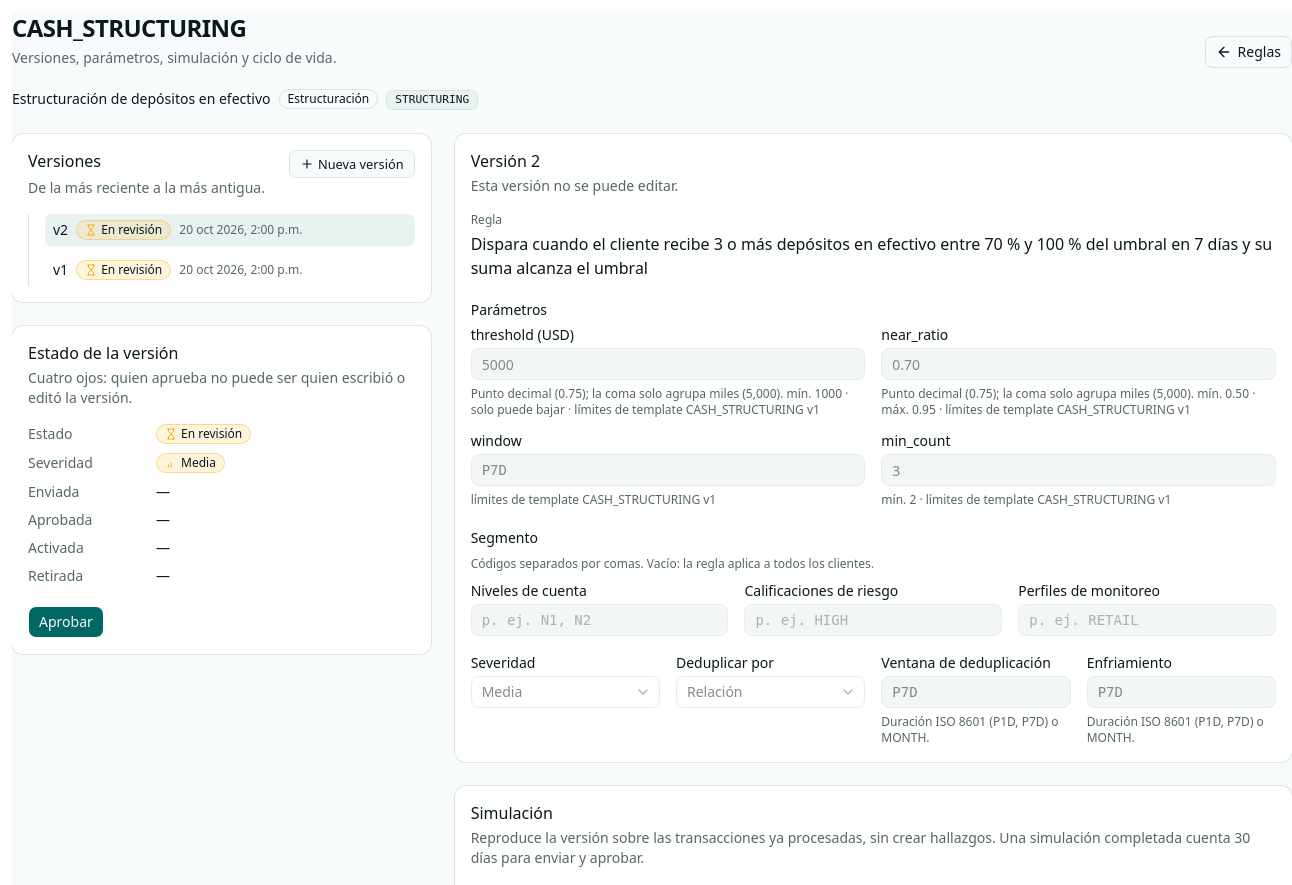
Test: RulePage › another version's refusal does not follow the user to this one
Click the button "Aprobar".
click(66, 622)  # box [28,606,104,638]
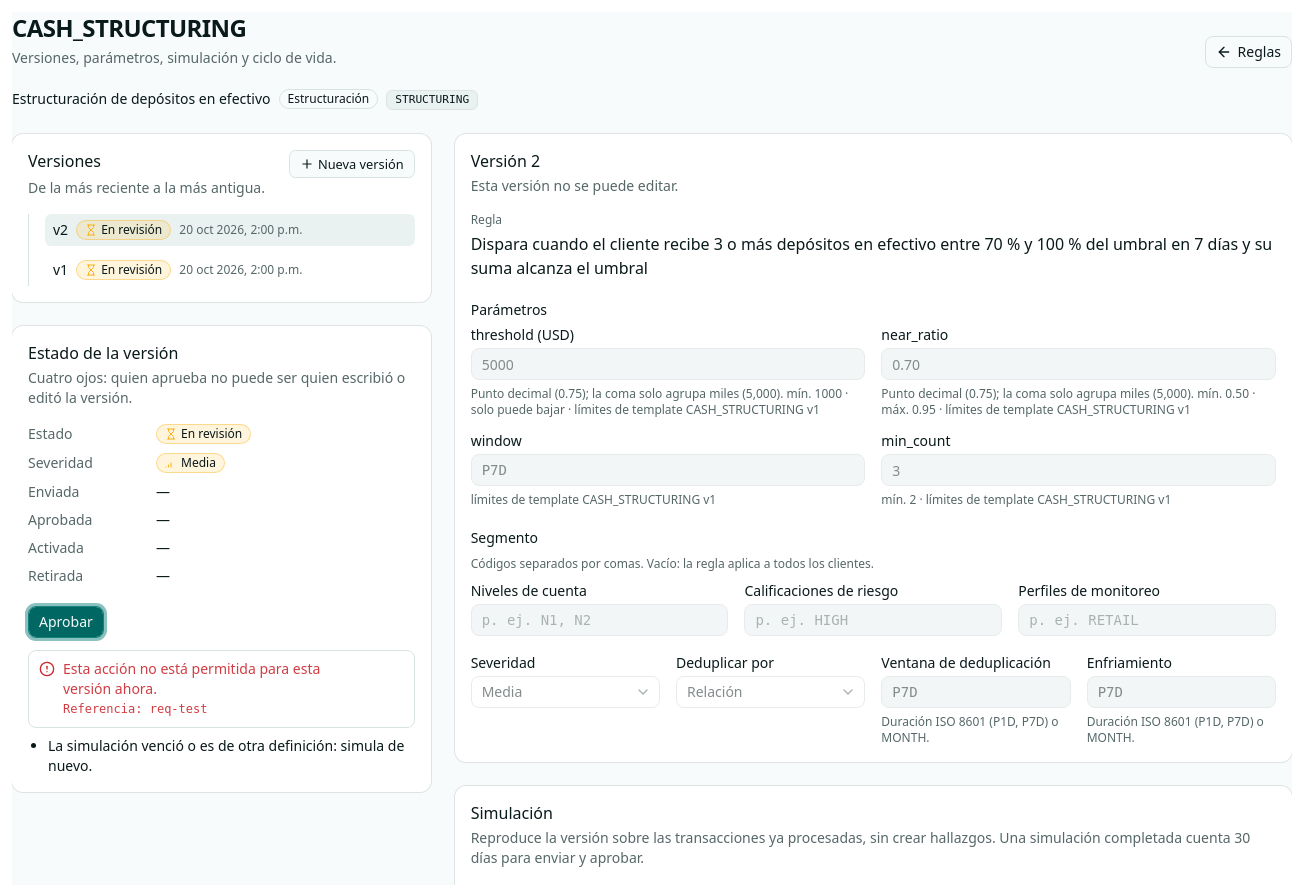
Now the list item "La simulación venció o es de otra definición: simula de nuevo." is shown, box [48,736,415,776]
Click the button "v1 En revisión 20 oct 2026, 2:00 p.m.".
click(230, 270)  # box [45,254,415,286]
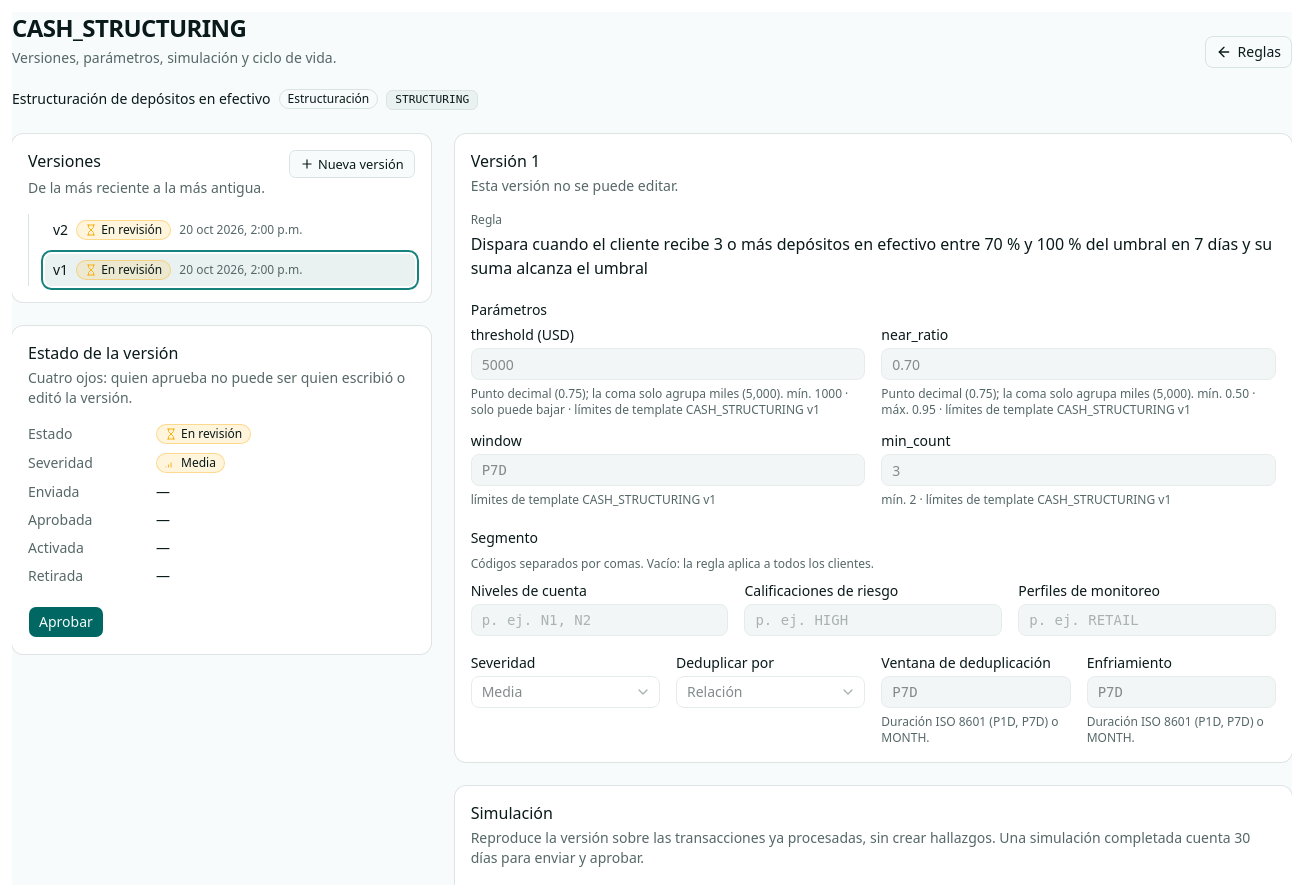
Now the list item "La simulación venció o es de otra definición: simula de nuevo." is gone
